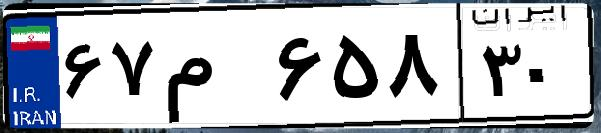0: (525, 38, 570, 115)
3: (475, 38, 525, 113)
5: (330, 28, 385, 110)
6: (270, 28, 330, 110), (57, 26, 110, 100)
7: (110, 28, 158, 98)
8: (385, 28, 445, 110)
م: (158, 20, 270, 120)
